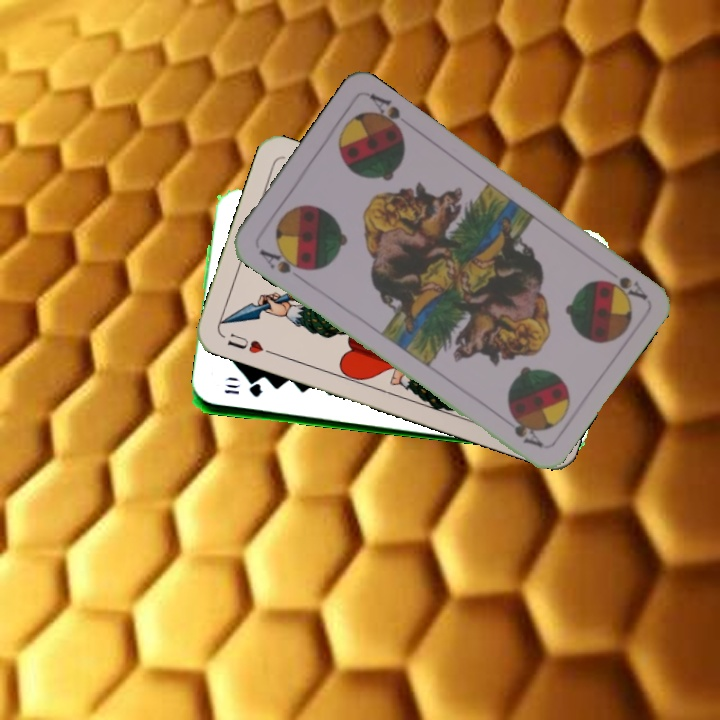G10: (220, 380, 265, 400)
HU: (223, 329, 277, 358)
SA: (255, 244, 311, 277), (600, 272, 650, 303)
